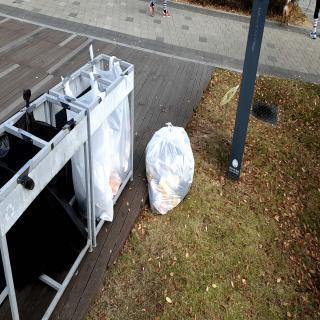Garbage: (142, 117, 195, 218)
